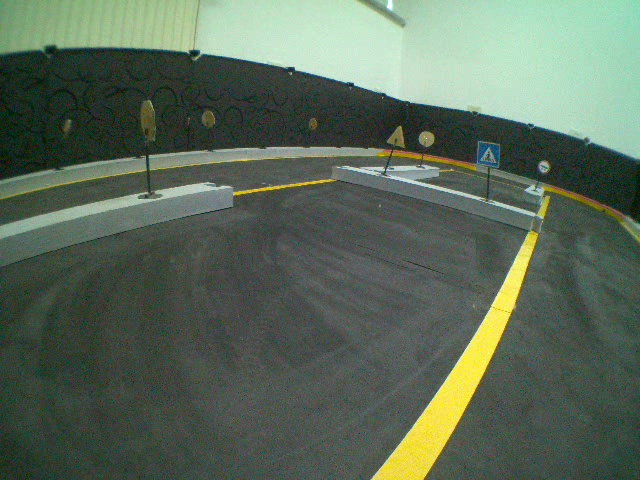Check: (536, 159, 551, 175)
crossing: (474, 139, 500, 167)
